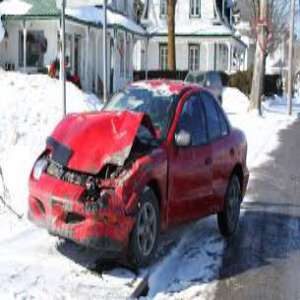bonnet: (54, 109, 140, 167)
bumper: (47, 193, 132, 256)
